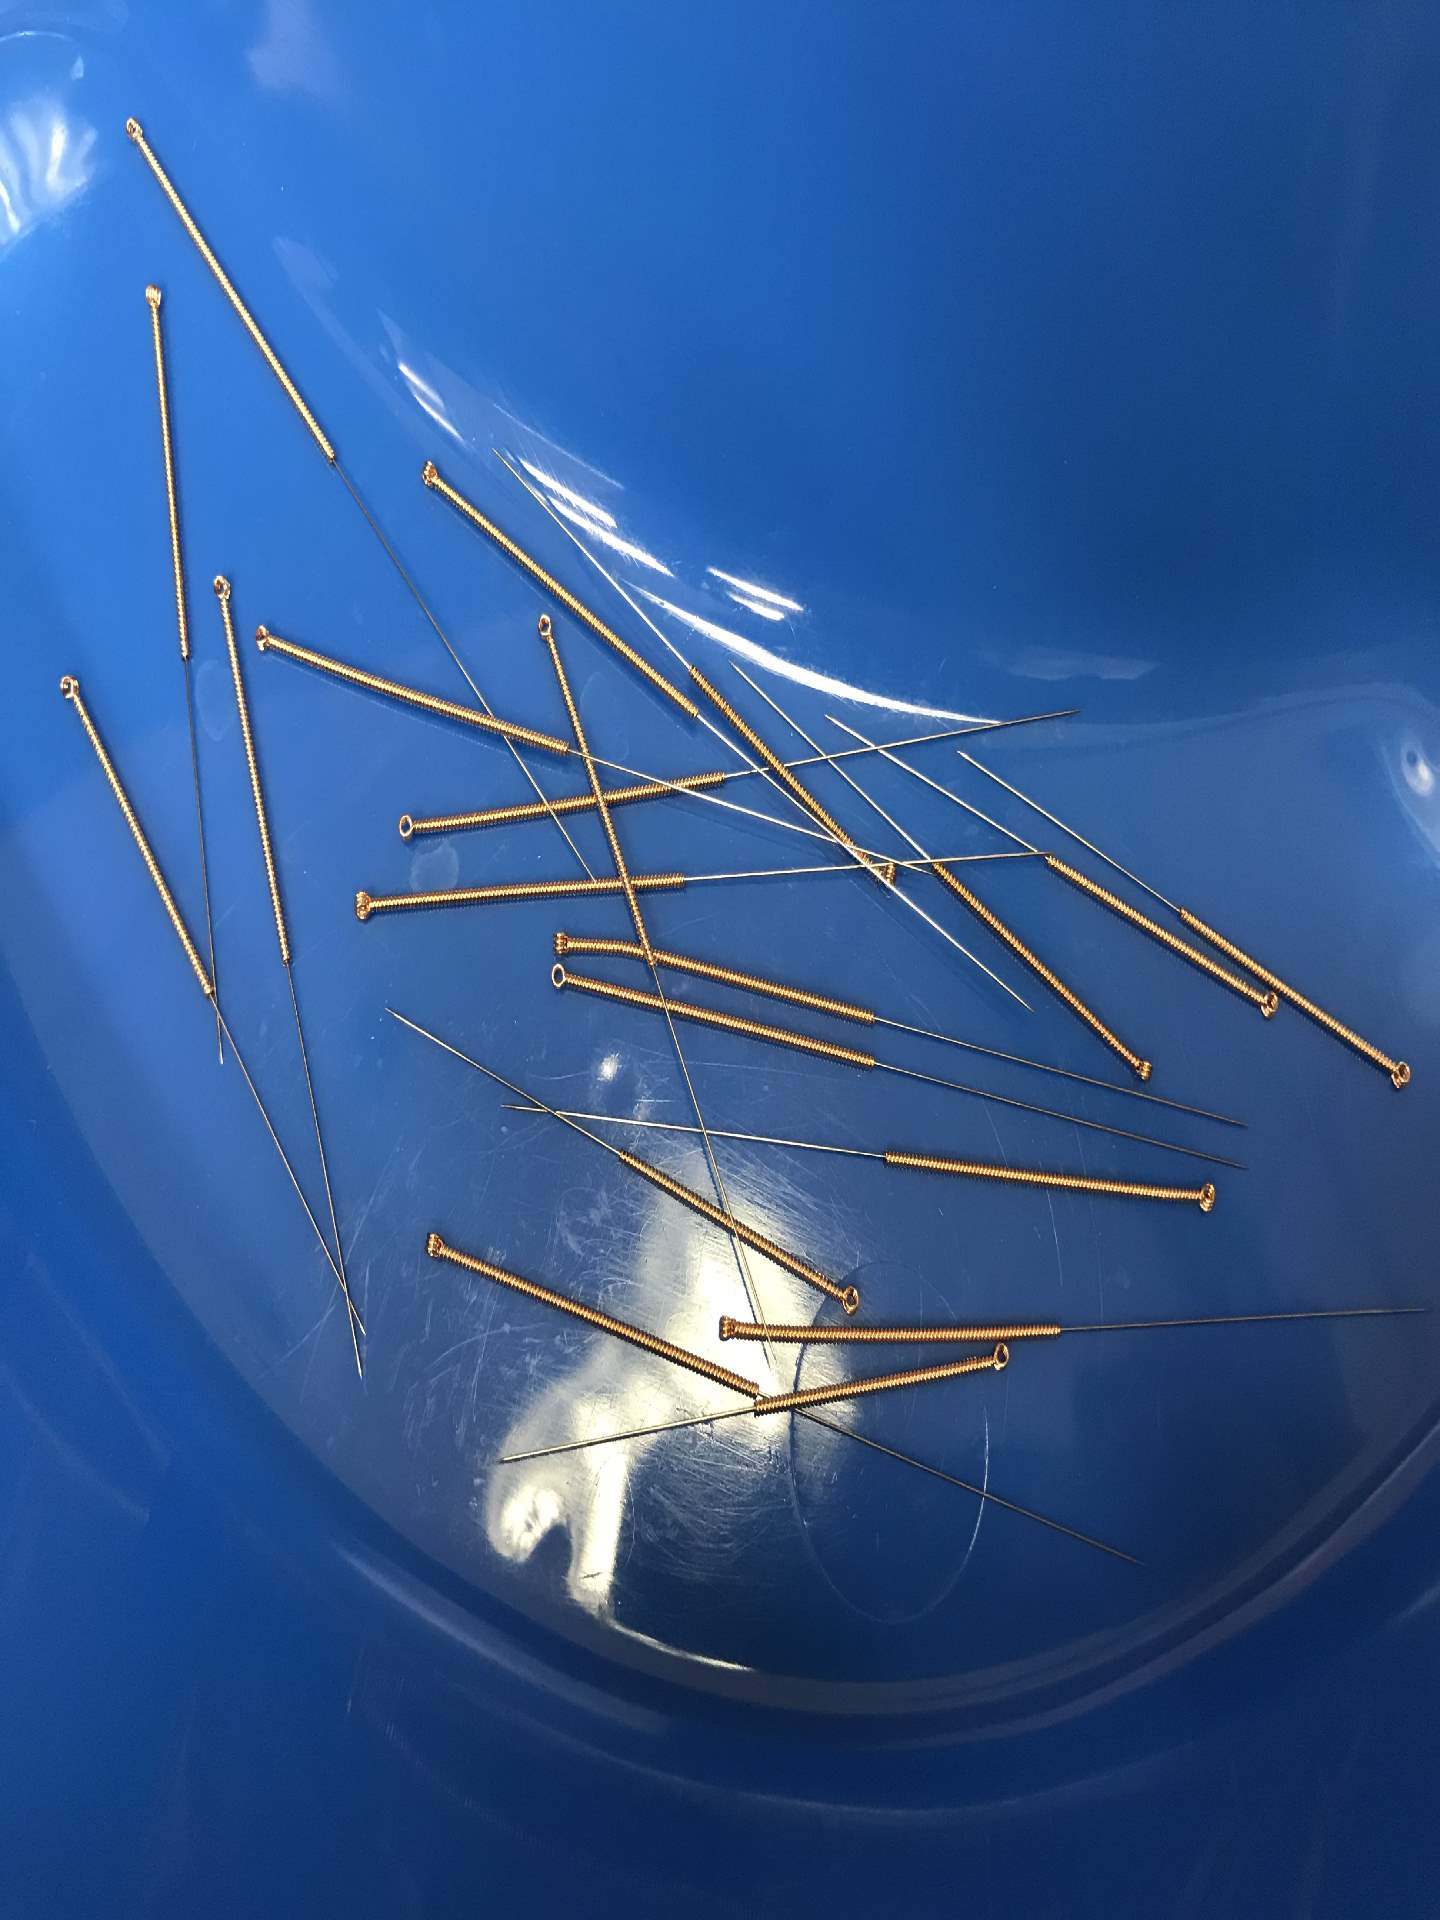needle: (1375, 1048, 1420, 1101), (340, 883, 386, 927), (414, 1223, 455, 1271), (824, 1276, 867, 1321), (1184, 1172, 1225, 1219), (48, 662, 85, 714), (538, 955, 582, 998), (389, 804, 430, 850), (1119, 1045, 1159, 1092), (1243, 986, 1287, 1027), (133, 274, 169, 322), (543, 922, 585, 962), (709, 1308, 747, 1350), (862, 854, 905, 892), (980, 1336, 1016, 1380), (411, 452, 446, 494), (247, 618, 281, 659), (529, 606, 560, 652), (206, 565, 236, 609), (118, 110, 147, 150)
